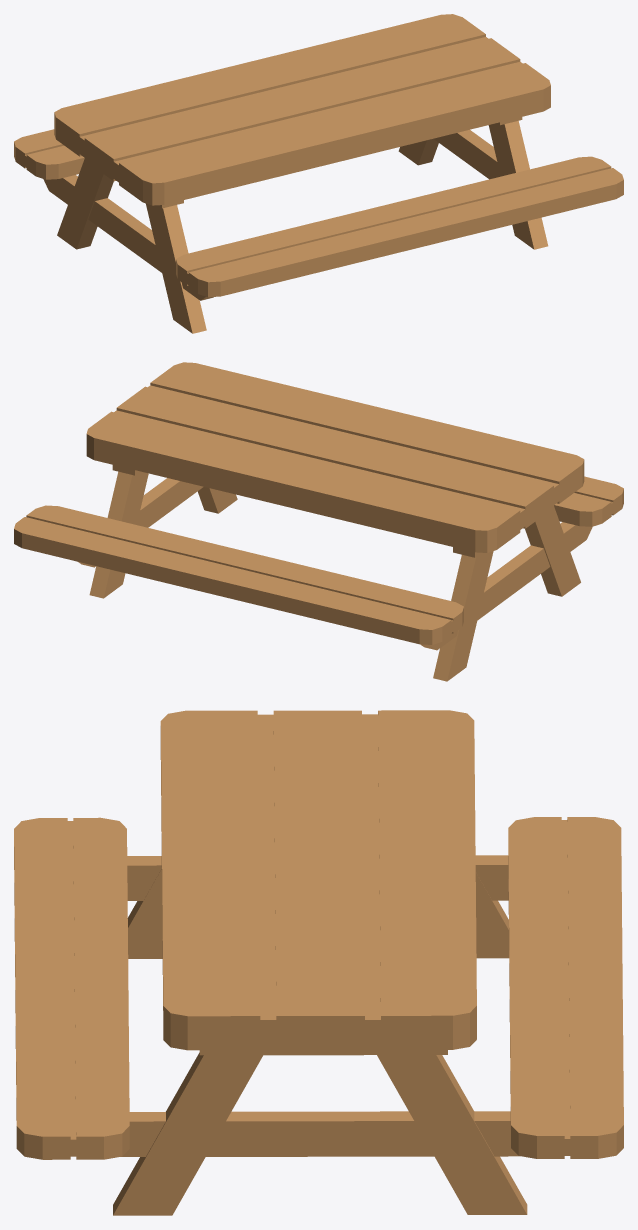
The model's file is low_poly_picnic_table.glb.
The picture shows the model from 3 angles, top to bottom: view 1: azimuth 30°, elevation 25°; view 2: azimuth 150°, elevation 25°; view 3: azimuth 270°, elevation 25°; orthographic projection. The views are drawn at different scales.
Visible parts, largest first — view 1: picnic table; view 2: picnic table; view 3: picnic table.
Part boxes in pixels (bbox=[...]): picnic table: bbox=[14, 14, 623, 333]; picnic table: bbox=[14, 362, 623, 681]; picnic table: bbox=[14, 710, 623, 1215].
Size of the model in its own units: 7.05 by 2.21 by 5.59.
